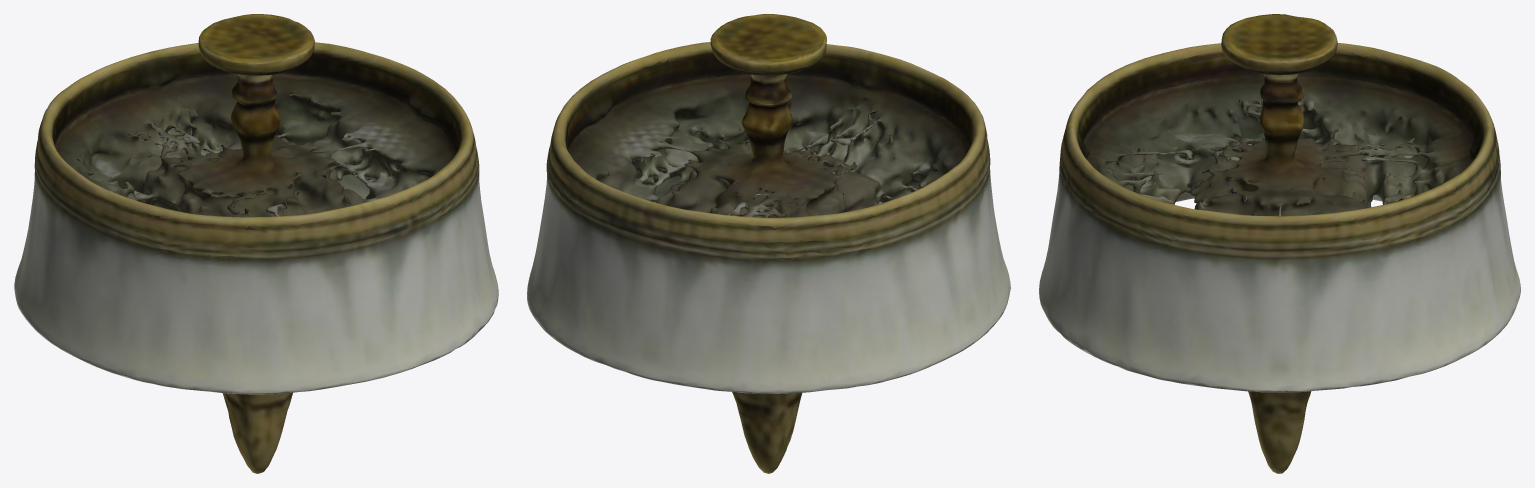
The model's file is 4d889f75f3a4_Traditional_brass_a.fbx.
The picture shows the model from 3 angles, left to right: view 1: azimuth 30°, elevation 25°; view 2: azimuth 150°, elevation 25°; view 3: azimuth 270°, elevation 25°; orthographic projection.
Parts seen in each view (by area): view 1: high_poly; view 2: high_poly; view 3: high_poly.
Boxes of the visible parts, <box> form: high_poly: <box>14,14,498,473</box>; high_poly: <box>527,14,1010,473</box>; high_poly: <box>1039,14,1520,473</box>.
Size of the model in its own units: 99.88 by 99.84 by 100.
